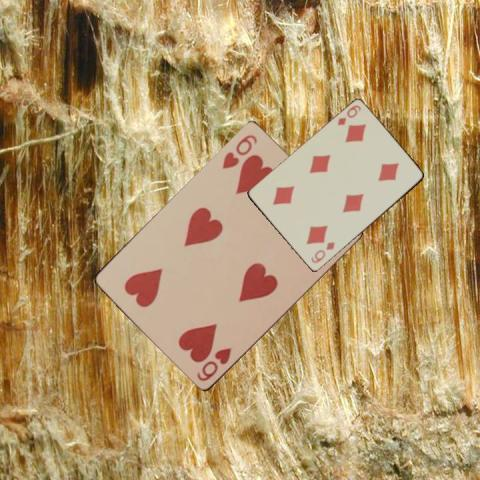6d: (308, 239, 336, 265), (334, 102, 363, 127)
6h: (218, 131, 258, 171), (193, 344, 233, 383)
